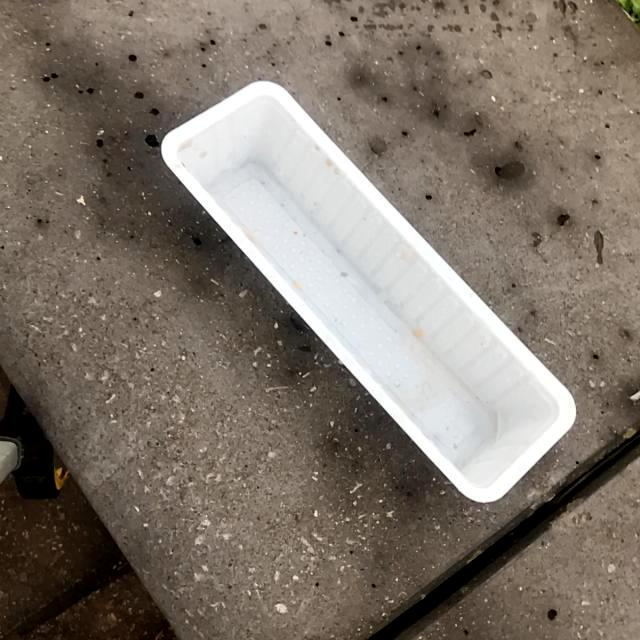Plastic: (156, 76, 580, 504)
